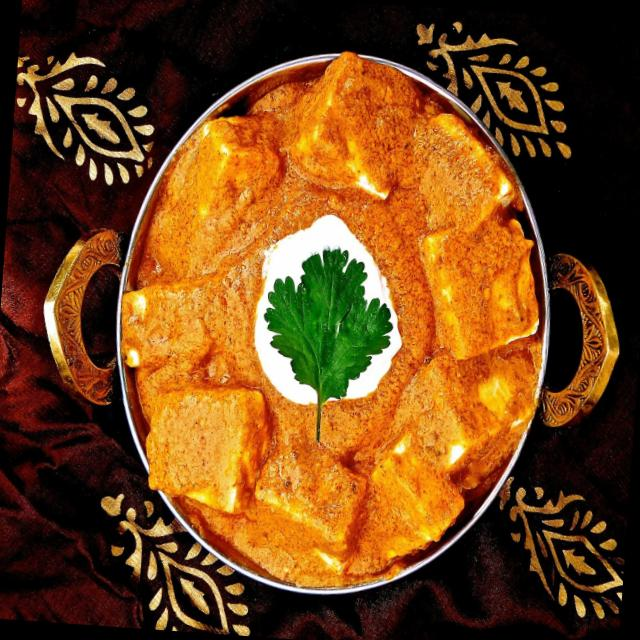ShahiPaneer: (100, 39, 554, 600)
